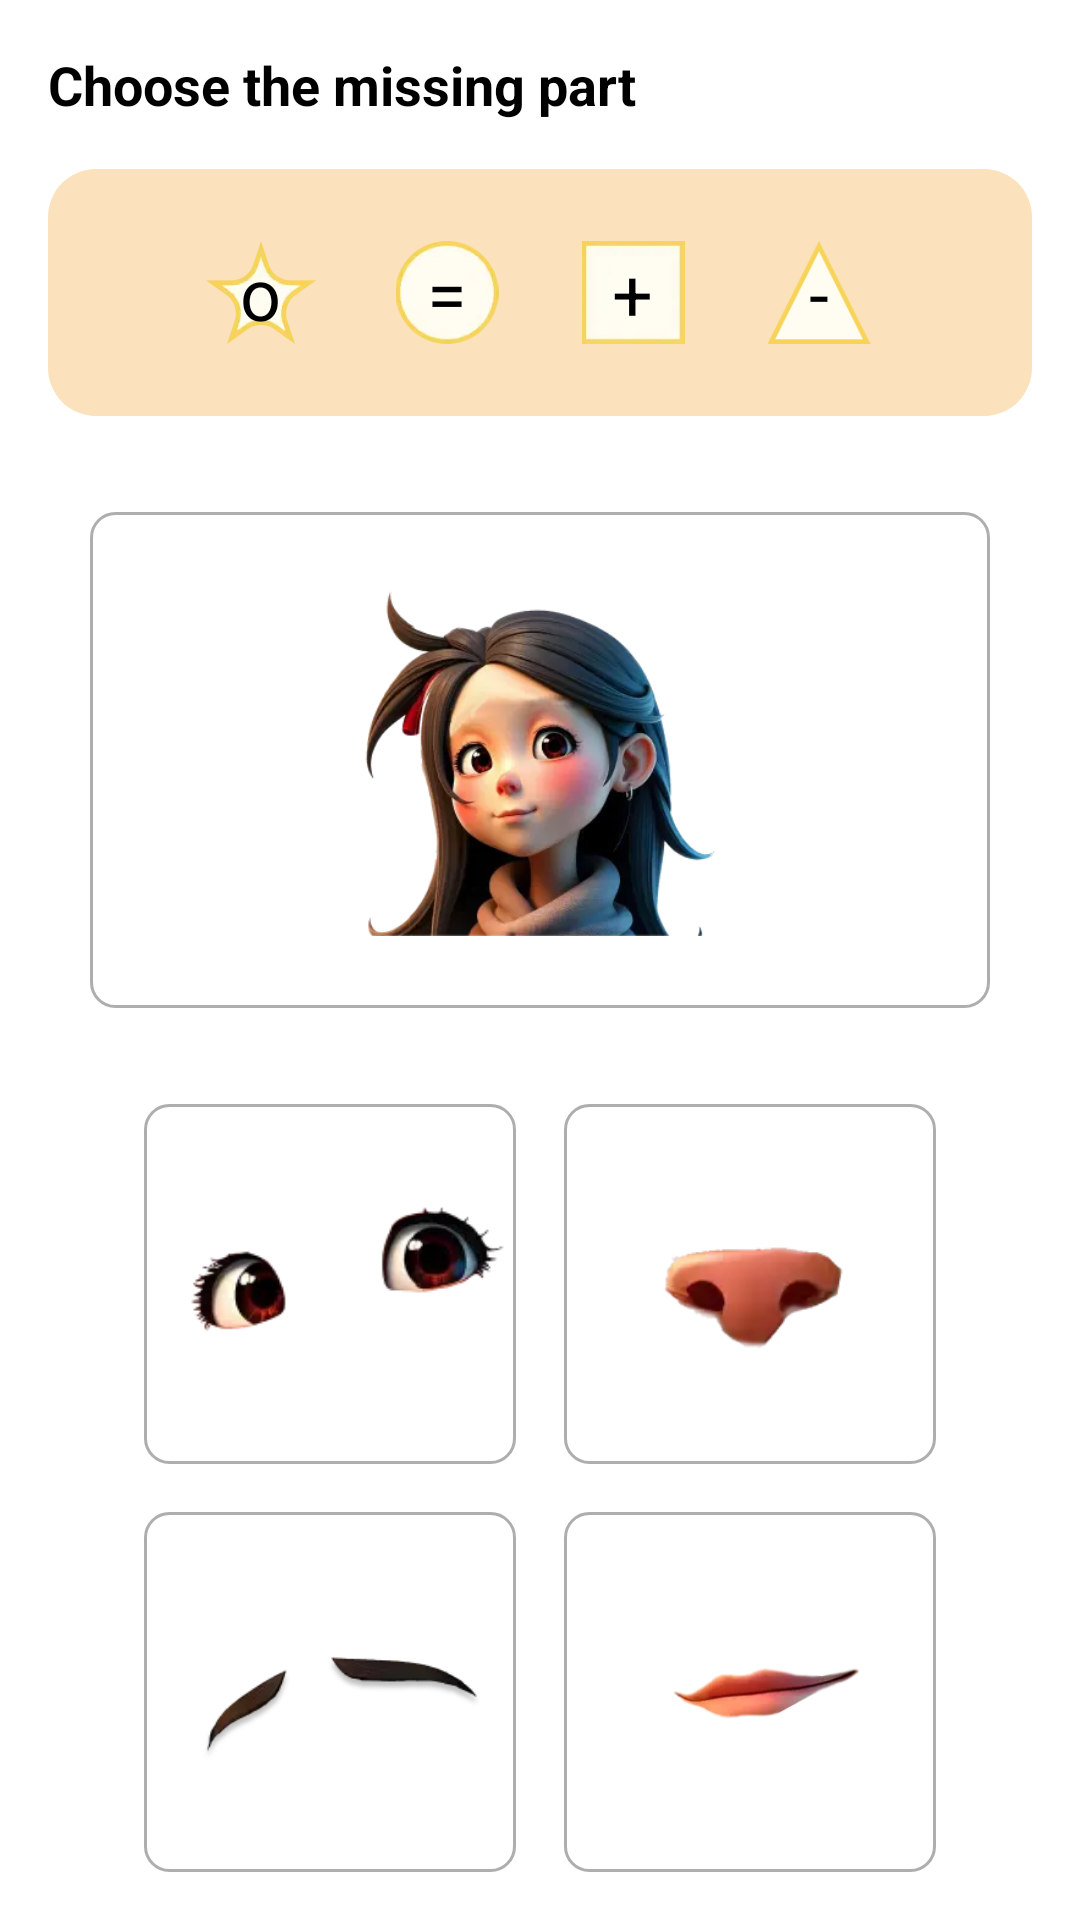

Icons on this 1080px x 1920px Android screen, each with its box as (x1, y1, x2, y2):
circle: (396, 241, 499, 344)
square: (582, 241, 685, 344)
star: (206, 242, 316, 344)
triangle: (768, 241, 871, 344)
